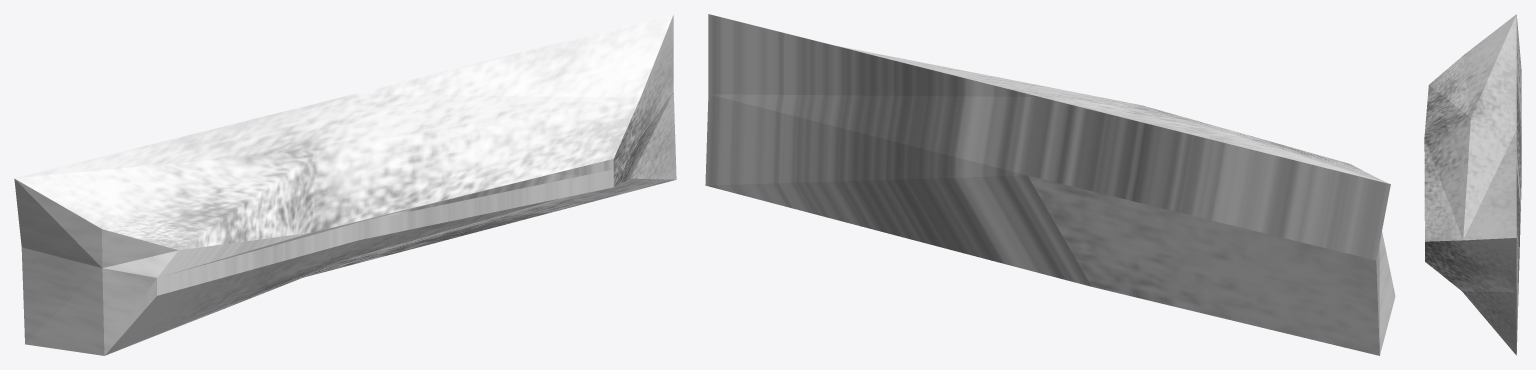
The model's file is snowmound8x1p5_wtf.obj.
3 views of the same model, side by side, from view 1: azimuth 30°, elevation 25°; view 2: azimuth 150°, elevation 25°; view 3: azimuth 270°, elevation 25° (orthographic). The views are drawn at different scales.
Parts seen in each view (by area): view 1: group3; view 2: group3; view 3: group3.
Part boxes in pixels (x1,y1,x2,y2): group3: (14,14,676,355); group3: (705,14,1395,355); group3: (1424,14,1521,355).
Size of the model in its own units: 660 by 165 by 119.
